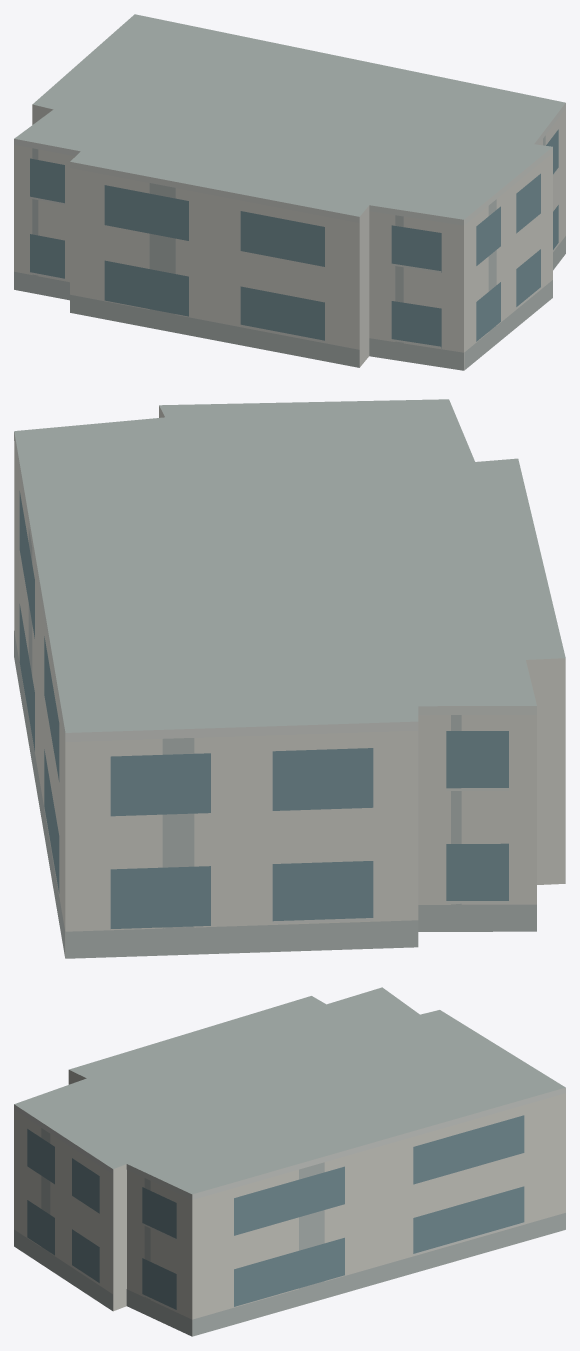
File: residential-833ad0bf-2b41-40a8-96f6-9d7a2fce8be2.glb
3 views of the same model, one above another, from view 1: azimuth 30°, elevation 25°; view 2: azimuth 150°, elevation 25°; view 3: azimuth 270°, elevation 25° (orthographic). The views are drawn at different scales.
Visible parts, largest first — view 1: residential-833ad0bf-2b41-40a8-96f6-9d7a2fce8be2.tmp; view 2: residential-833ad0bf-2b41-40a8-96f6-9d7a2fce8be2.tmp; view 3: residential-833ad0bf-2b41-40a8-96f6-9d7a2fce8be2.tmp.
Part boxes in pixels (left/top/right/bottom): residential-833ad0bf-2b41-40a8-96f6-9d7a2fce8be2.tmp: left=14, top=14, right=565, bottom=370; residential-833ad0bf-2b41-40a8-96f6-9d7a2fce8be2.tmp: left=14, top=399, right=565, bottom=958; residential-833ad0bf-2b41-40a8-96f6-9d7a2fce8be2.tmp: left=14, top=987, right=565, bottom=1336.
Bounding box in the file's own units: 19.07 × 6.1 × 21.46.
